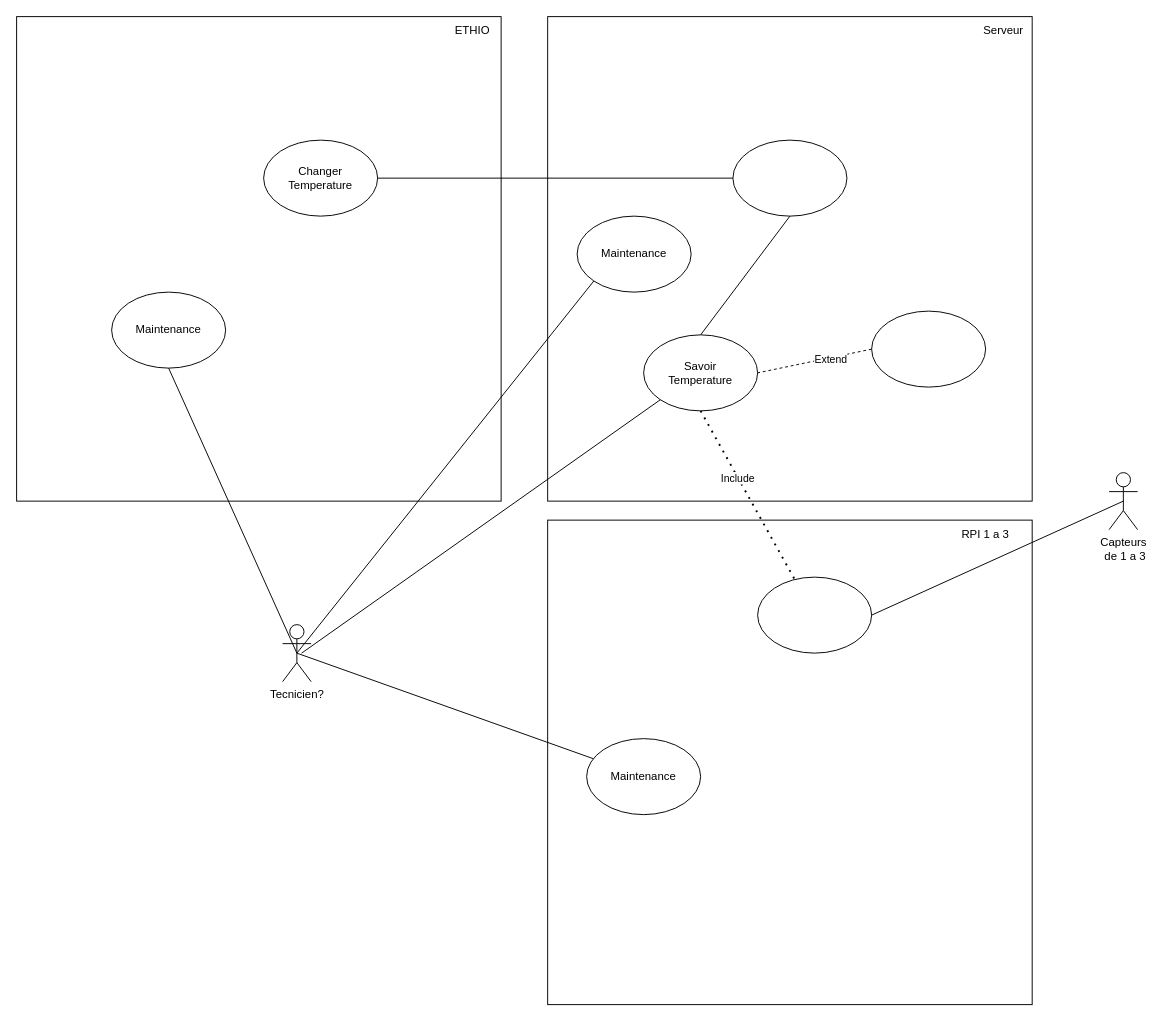
Some shapes in this 1163 by 1021 pixel diagram are drawn without their labels. Each missing label, with the box of its shape:
Comander Temperature: (732, 139, 847, 216)
Connexion interrompue: (871, 310, 986, 387)
Mesurer Temperature: (757, 576, 872, 653)
